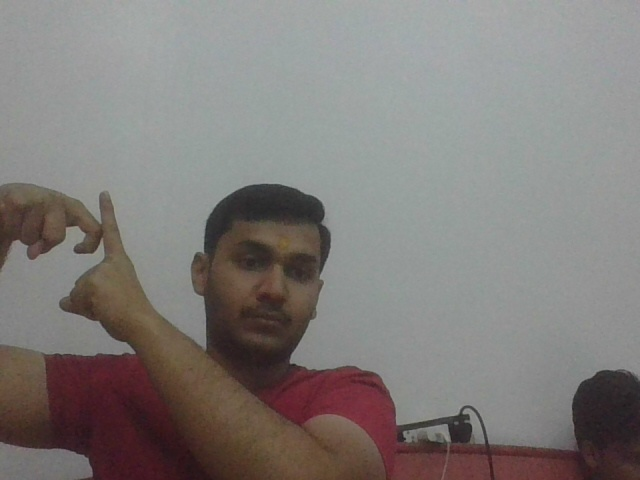K: (45, 182, 130, 275)
